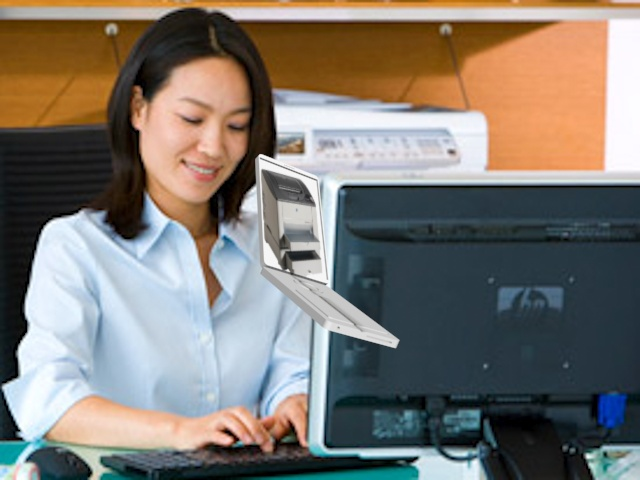mobile_phone: (249, 153, 400, 352)
